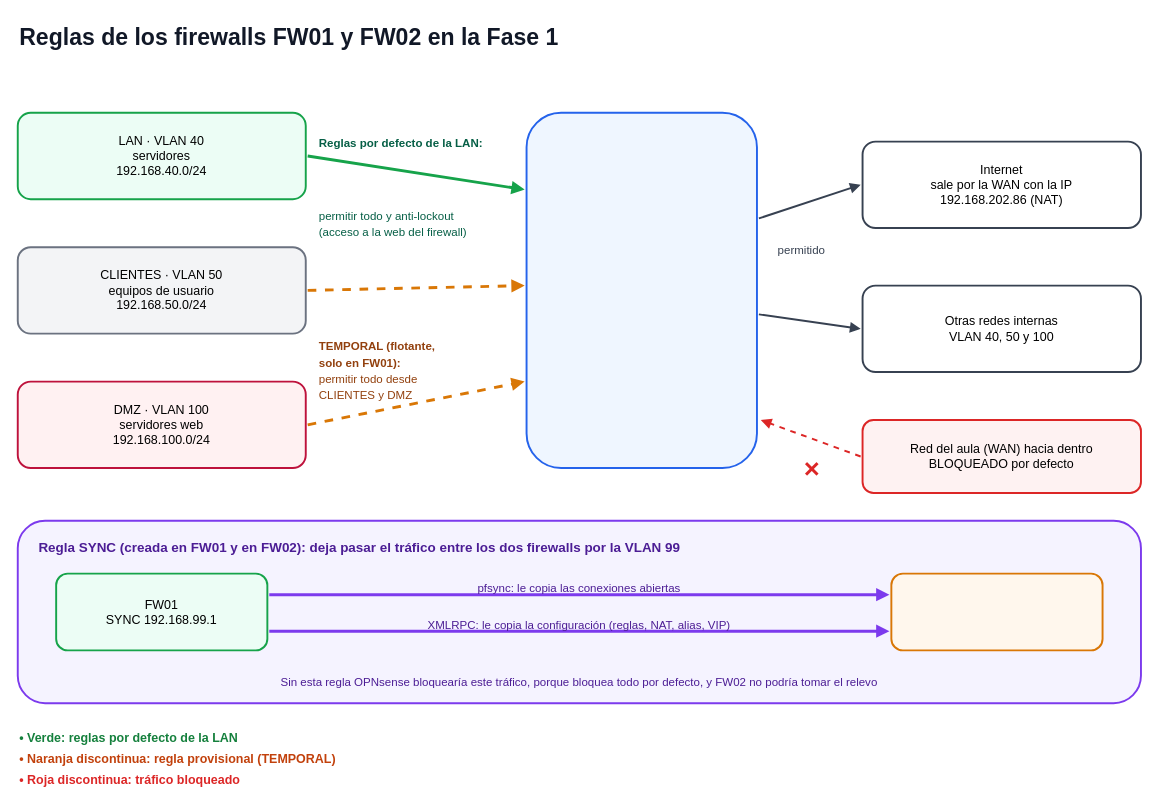
This 1158x804 diagram has some shape labels left out. Each missing label, with the centre of its shape:
FW01 / FW02 OPNsense revisa cada conexión con sus reglas: [641,289]
FW02 SYNC 192.168.99.2: [996,611]
